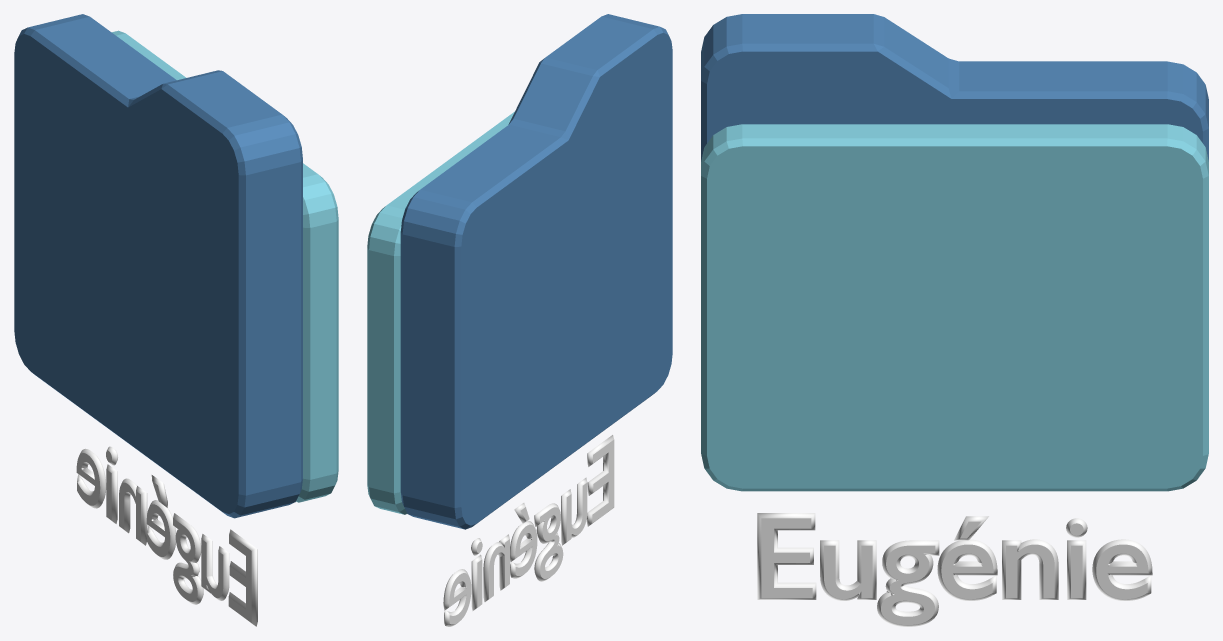
File: Folder_Eugenie.fbx
3 renders of one model, left to right at view 1: azimuth 30°, elevation 25°; view 2: azimuth 150°, elevation 25°; view 3: azimuth 270°, elevation 25°, orthographic. The views are drawn at different scales.
Visible parts, largest first — view 1: FolderIcon_2, Text.004; view 2: FolderIcon_2, Text.004; view 3: FolderIcon_2, Text.004.
Part boxes in pixels (x1,y1,x2,y2): FolderIcon_2: (14,14,338,518); Text.004: (76,446,257,626); FolderIcon_2: (367,14,672,529); Text.004: (443,435,614,626); FolderIcon_2: (701,14,1208,491); Text.004: (757,513,1152,626).
Bounding box in the file's own units: 65.51 × 336 × 261.
